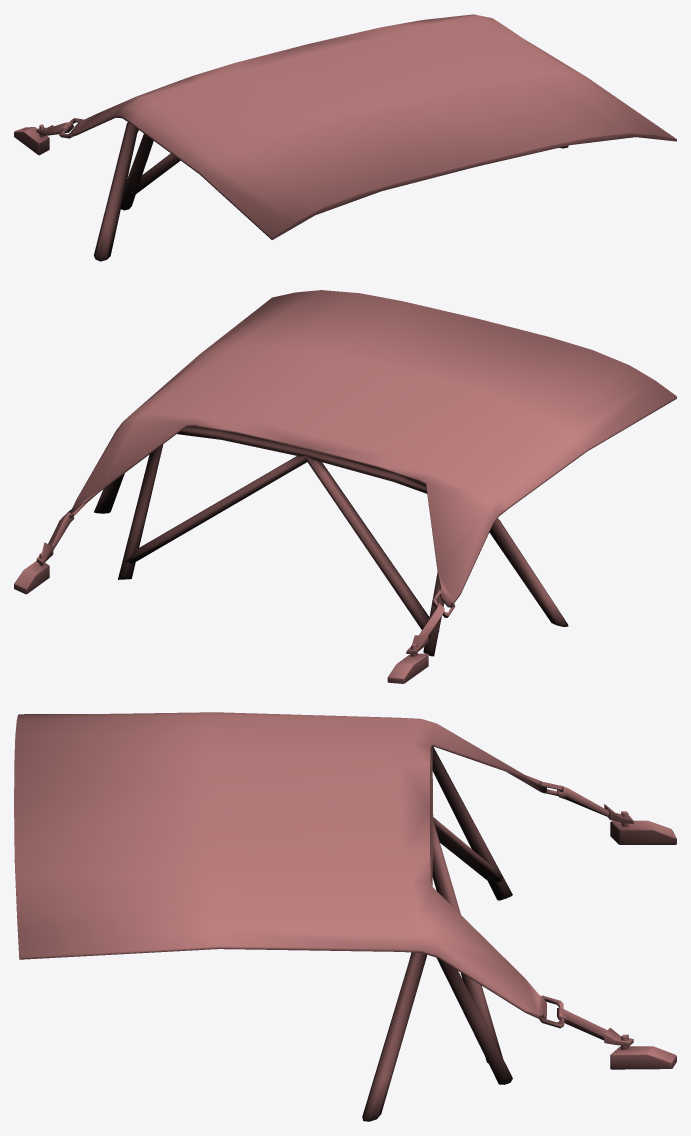
The model's file is MX5_Roof03_Trim.fbx.
3 views of the same model, one above another, from view 1: azimuth 30°, elevation 25°; view 2: azimuth 150°, elevation 25°; view 3: azimuth 270°, elevation 25° (orthographic). The views are drawn at different scales.
Parts seen in each view (by area): view 1: MX5_Roof03_Trim; view 2: MX5_Roof03_Trim; view 3: MX5_Roof03_Trim.
Boxes of the visible parts, box(x1,y1,x2,y2) form: MX5_Roof03_Trim: box(14, 14, 676, 261); MX5_Roof03_Trim: box(14, 290, 676, 683); MX5_Roof03_Trim: box(14, 712, 676, 1121).
Bounding box in the file's own units: 127 × 40.9 × 126.
